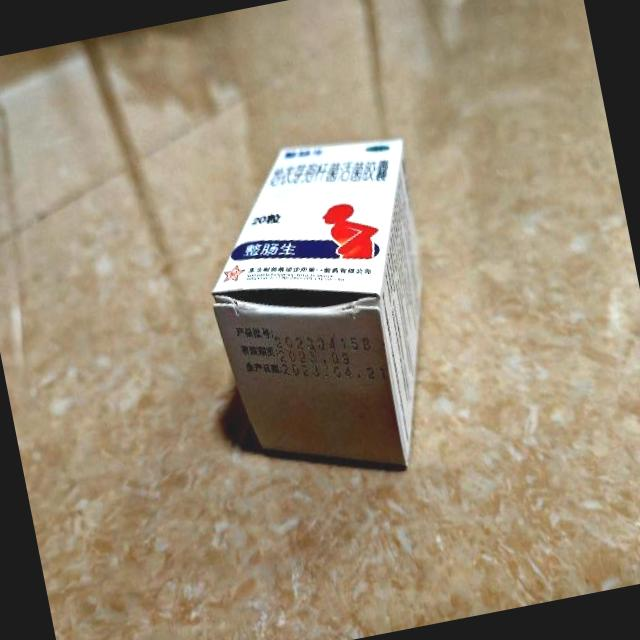box: (186, 124, 464, 498)
